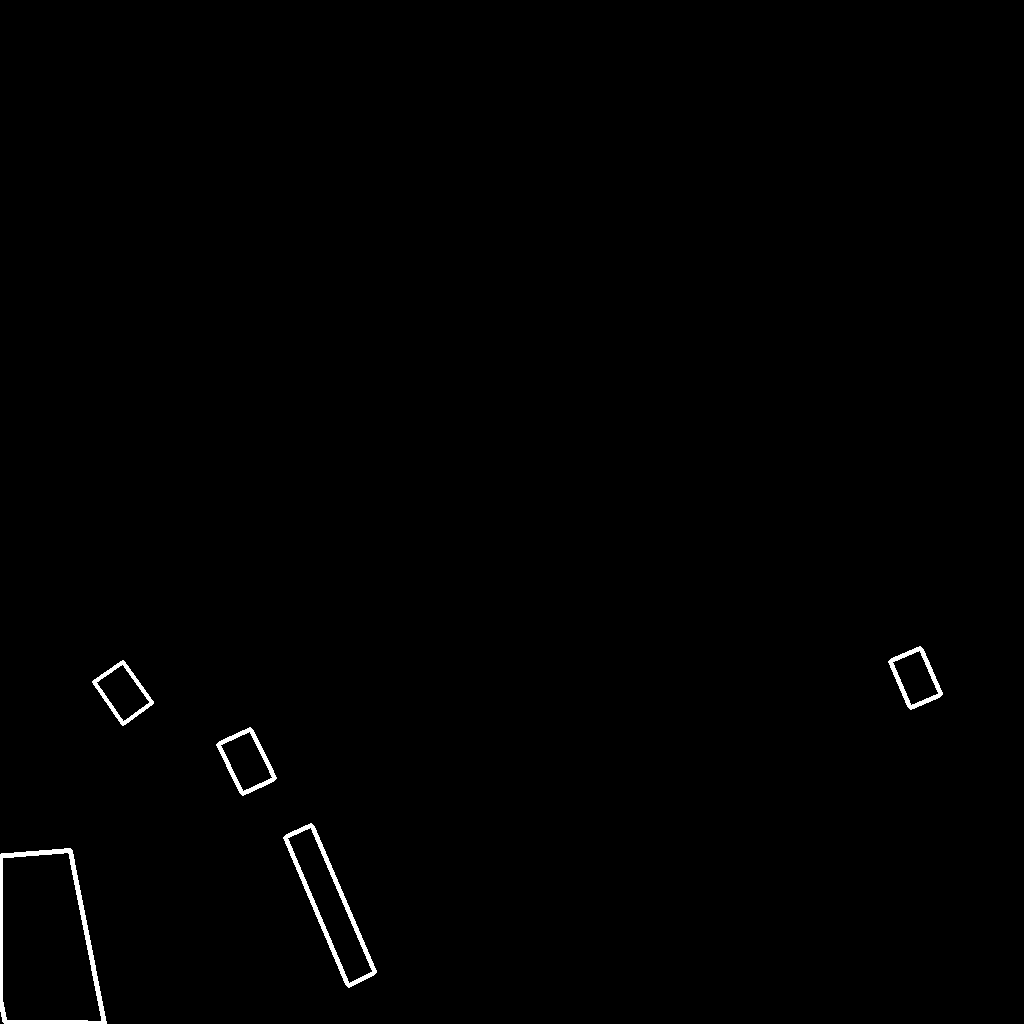building: (0, 850, 106, 1024), (285, 825, 376, 987), (218, 729, 276, 795), (94, 662, 153, 725), (890, 648, 942, 709)
